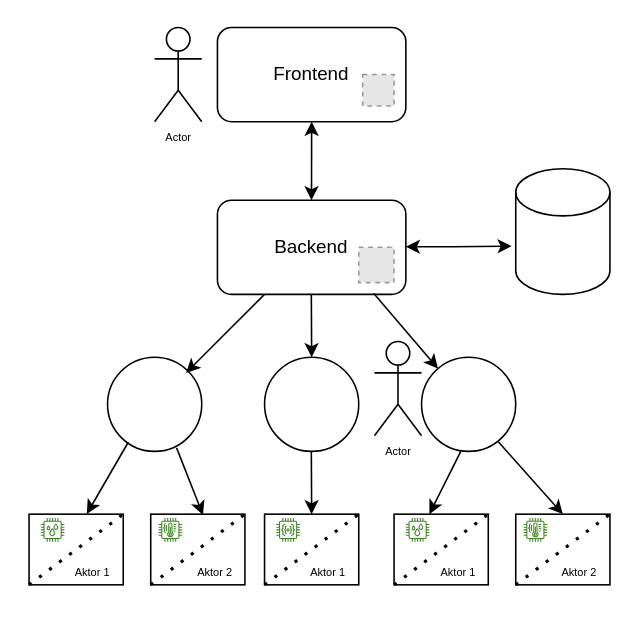
Some shapes in this 639 by 630 pixel diagram are drawn without their labels. Grey dashed boxes stand in for pictures. The centre of each missing label's shape, as x and y in pixels:
DB: pixel 562 230
Node 1: pixel 154 403
Node 2: pixel 311 403
Node 3: pixel 468 403
